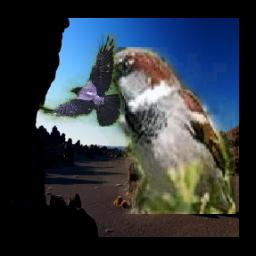Crow: (40, 33, 121, 127)
Sparrow: (95, 48, 236, 215)
